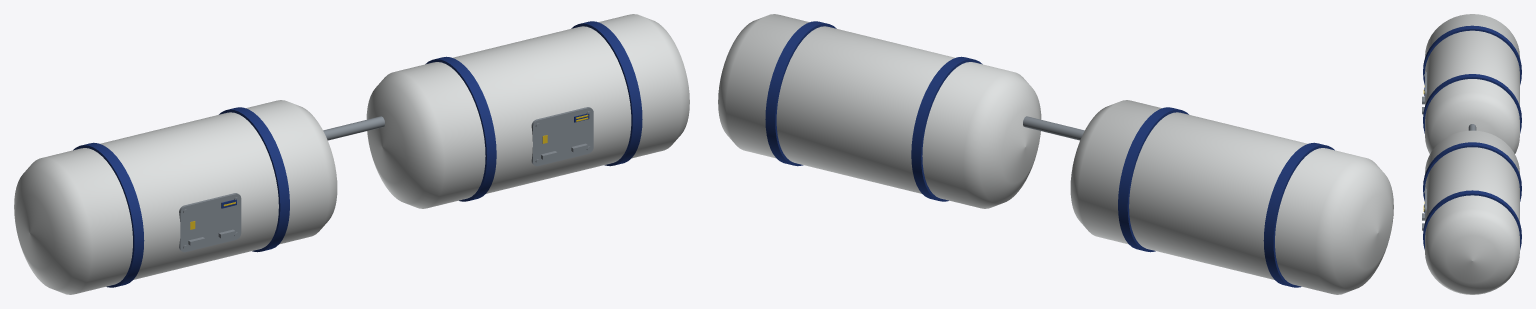
File: l200_water.obj
3 renders of one model, left to right at view 1: azimuth 30°, elevation 25°; view 2: azimuth 150°, elevation 25°; view 3: azimuth 270°, elevation 25°, orthographic. The views are drawn at different scales.
Visible parts, largest first — view 1: l200_water; view 2: l200_water; view 3: l200_water.
Part boxes in pixels (<box>): l200_water: <box>14,14,689,294</box>; l200_water: <box>718,14,1393,294</box>; l200_water: <box>1422,14,1521,294</box>.
Bounding box in the file's own units: 5.3 × 1.04 × 1.05.
